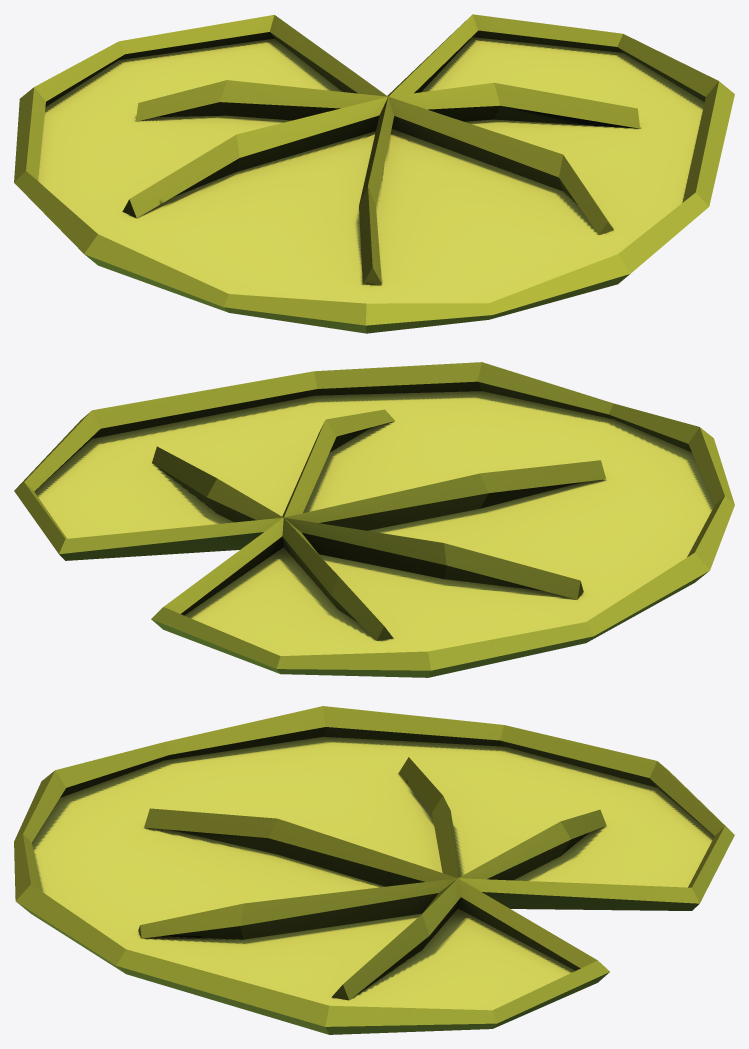
The model's file is Lily pad.glb.
3 views of the same model, one above another, from view 1: azimuth 30°, elevation 25°; view 2: azimuth 150°, elevation 25°; view 3: azimuth 270°, elevation 25° (orthographic). The views are drawn at different scales.
Parts seen in each view (by area): view 1: lily_pad; view 2: lily_pad; view 3: lily_pad.
Part boxes in pixels (x1,y1,x2,y2): lily_pad: (14, 14, 734, 333); lily_pad: (14, 362, 734, 677); lily_pad: (14, 706, 734, 1034).
Size of the model in its own units: 1.59 by 0.0877 by 1.56.
Materials: 1 (1 with a texture image).
